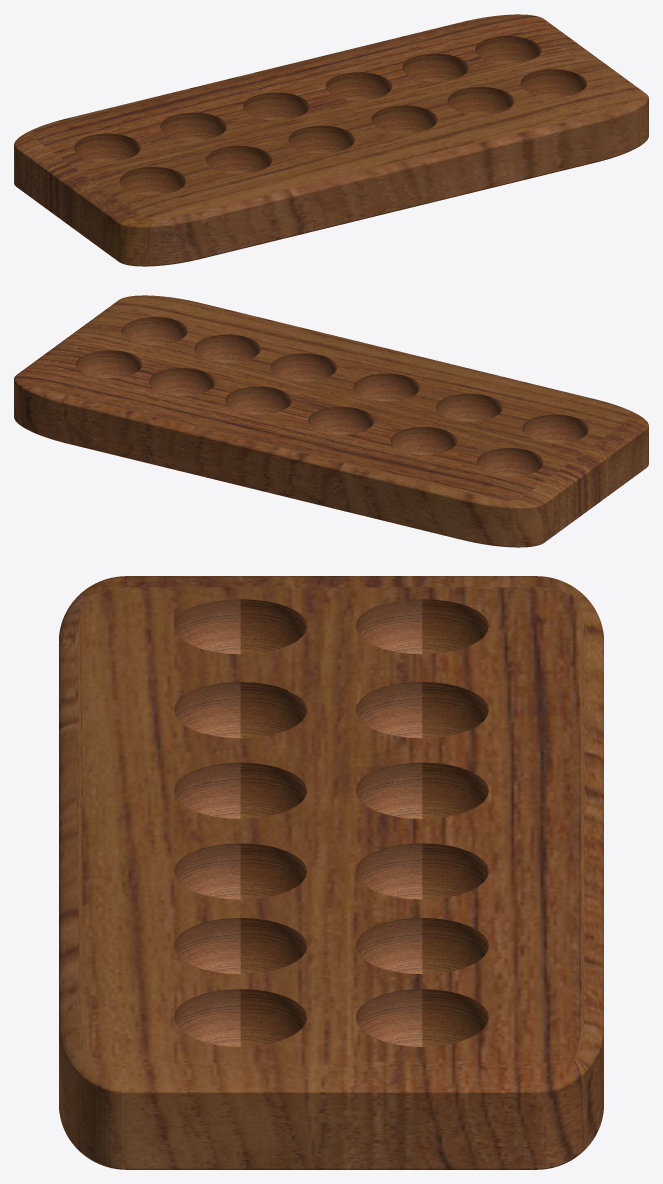
File: board.gltf
The picture shows the model from 3 angles, top to bottom: view 1: azimuth 30°, elevation 25°; view 2: azimuth 150°, elevation 25°; view 3: azimuth 270°, elevation 25°; orthographic projection. The views are drawn at different scales.
Parts seen in each view (by area): view 1: board, house-1, house-12, house-4, house-10, house-11, house-9, house-3, house-5, house-8, house-2, house-6 (+1 smaller); view 2: board, house-12, house-1, house-9, house-3, house-2, house-4, house-10, house-5, house-8, house-11, house-7 (+1 smaller); view 3: board, house-6, house-7, house-4, house-9, house-3, house-10, house-11, house-5, house-8, house-2, house-1 (+1 smaller).
Boxes of the visible parts, x1,y1,x2,y2 form: board: (14, 14, 648, 266); house-1: (119, 167, 185, 195); house-12: (74, 133, 140, 161); house-4: (371, 105, 437, 133); house-10: (243, 92, 309, 120); house-11: (160, 112, 226, 140); house-9: (325, 72, 391, 100); house-3: (288, 125, 354, 153); house-5: (447, 87, 513, 114); house-8: (402, 53, 468, 81); house-2: (206, 146, 272, 173); house-6: (520, 69, 586, 97); board: (14, 295, 648, 547); house-12: (477, 448, 543, 476); house-1: (522, 414, 588, 442); house-9: (225, 386, 291, 414); house-3: (353, 373, 419, 401); house-2: (436, 393, 502, 421); house-4: (271, 353, 337, 381); house-10: (308, 406, 374, 434); house-5: (194, 334, 260, 362); house-8: (149, 368, 215, 395); house-11: (390, 427, 456, 454); house-7: (76, 350, 142, 378); board: (59, 576, 603, 1169); house-6: (174, 989, 307, 1046); house-7: (355, 989, 488, 1046); house-4: (174, 843, 307, 899); house-9: (355, 843, 488, 899); house-3: (174, 762, 307, 818); house-10: (355, 762, 488, 818); house-11: (355, 682, 488, 738); house-5: (174, 918, 306, 974); house-8: (356, 918, 488, 974); house-2: (174, 682, 307, 738); house-1: (174, 599, 307, 654).
Bounding box in the file's own units: 37.66 × 3.44 × 16.83.
Materials: 1 (1 with a texture image).
